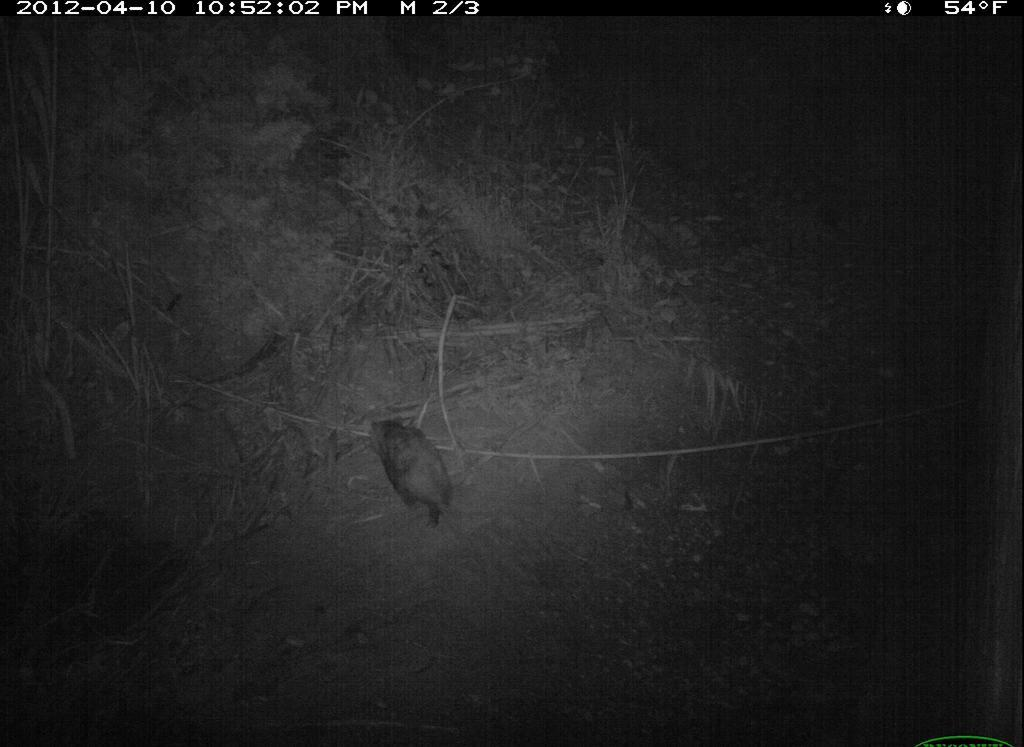opossum: (363, 409, 469, 538)
